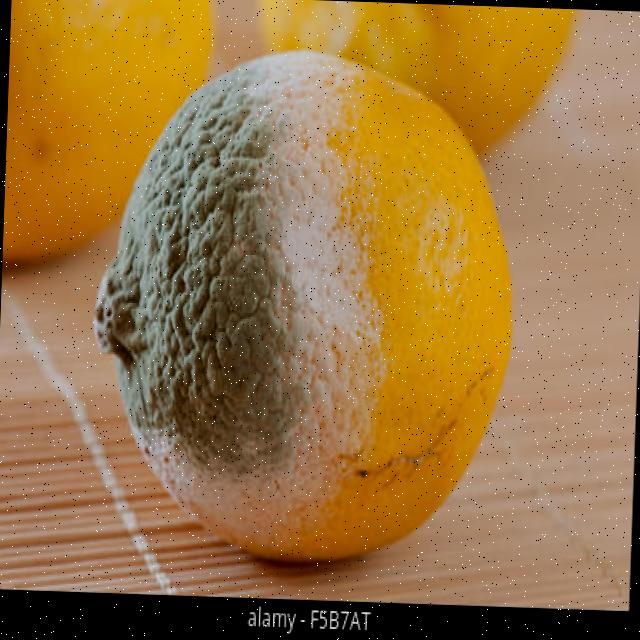Rotten: (86, 44, 524, 573)
